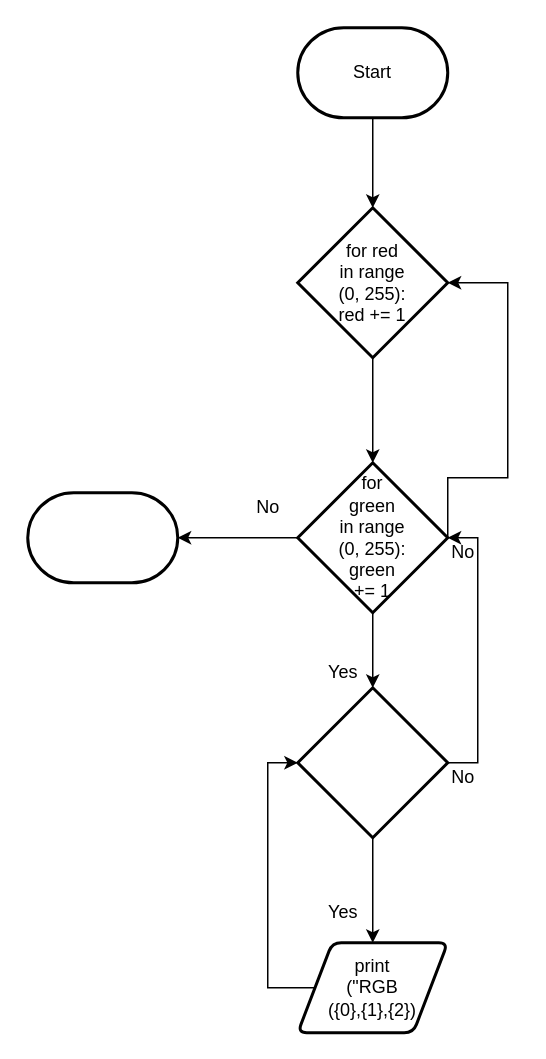
Image size: 546x1059. Some labels were removed from this diagram. Each missing label, with the box of its shape:
for blue in range (0, 255): blue += 1: (296, 686, 448, 838)
Stop: (26, 490, 178, 584)
